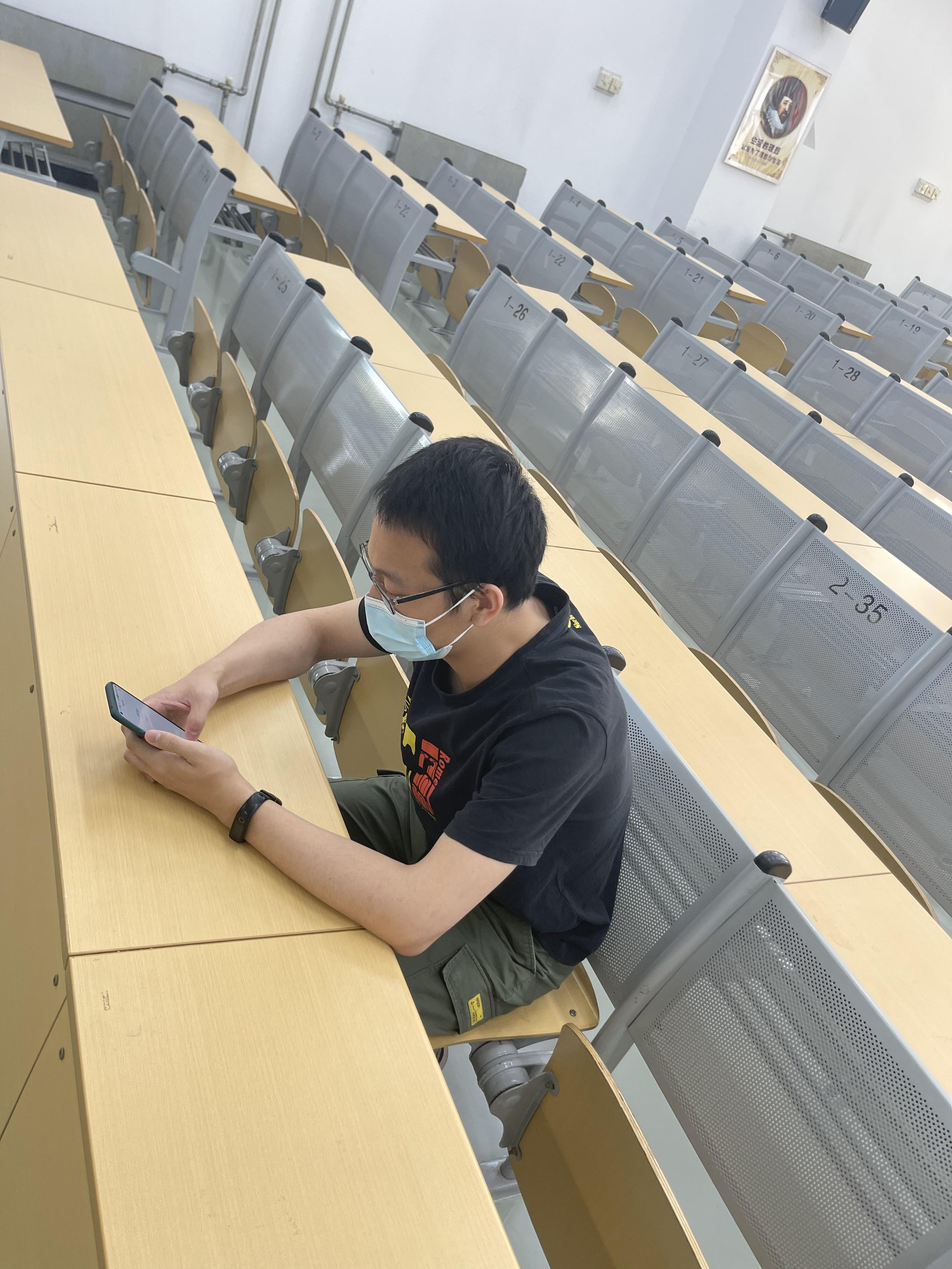phone: (104, 434, 632, 953)
